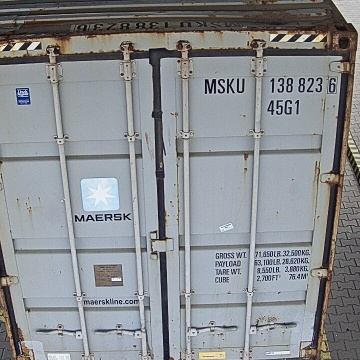serial_id: (205, 77, 337, 93)
